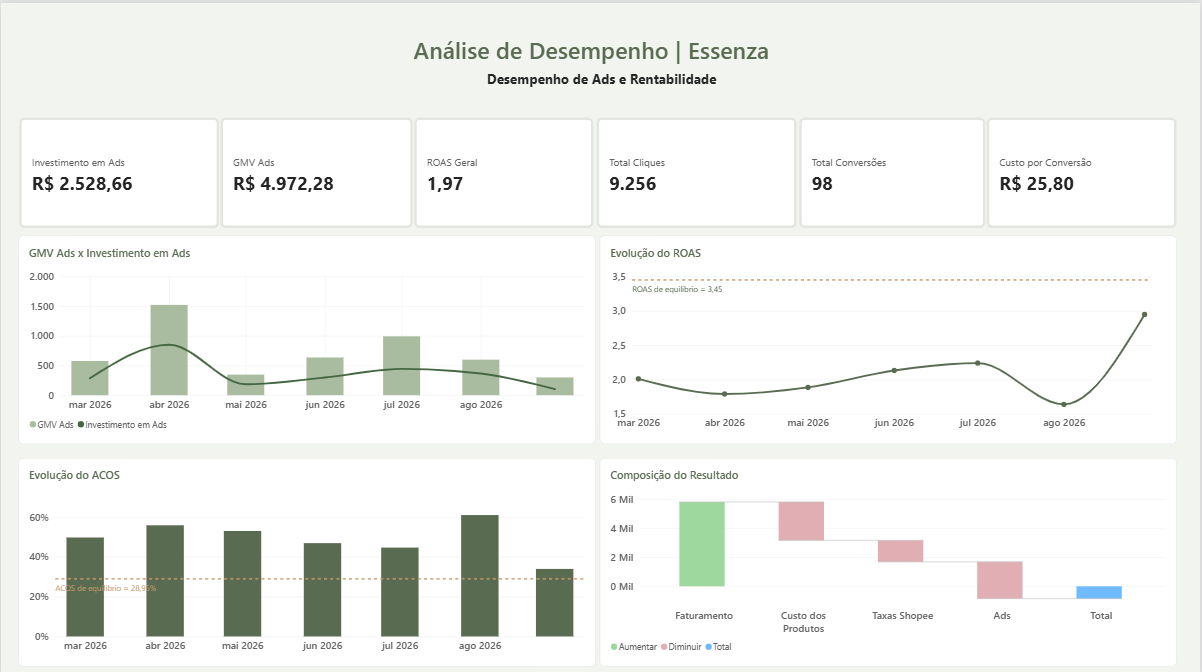

The dashboard page shown, as its layout file describes it:
{"tool":"powerbi","page":{"name":"Ads e Rentabilidade","canvas":[1920,1080],"ordinal":1},"visuals":[{"type":"cardVisual","fields":{"Data":["shopee vendas.Investimento em Ads Exibição"]},"box":[27.1,181.2,322.9,179.2],"z":0},{"type":"cardVisual","fields":{"Data":["shopee anuncios.GMV Ads"]},"box":[350,181.2,310.4,179.2],"z":1000},{"type":"cardVisual","fields":{"Data":["shopee anuncios.ROAS Geral"]},"box":[660.4,181.2,289.6,179.2],"z":2000},{"type":"cardVisual","fields":{"Data":["shopee anuncios.Total Cliques Exibição"]},"box":[952.1,181.2,322.9,179.2],"z":3000},{"type":"cardVisual","fields":{"Data":["shopee anuncios.Total Conversões"]},"box":[1275,181.2,300,179.2],"z":4000},{"type":"cardVisual","fields":{"Data":["shopee anuncios.Custo por Conversão"]},"box":[1575,181.2,306.2,179.2],"z":5000},{"type":"lineClusteredColumnComboChart","title":"GMV Ads x Investimento em Ads","fields":{"Category":["shopee anuncios.Data Inicio Periodo"],"Y":["shopee anuncios.GMV Ads"],"Y2":["shopee vendas.Investimento em Ads"]},"box":[27.1,372.9,922.9,333.3],"z":6000},{"type":"lineChart","title":"Evolução do ROAS ","fields":{"Category":["shopee anuncios.Data Inicio Periodo"],"Y":["shopee anuncios.ROAS Geral"]},"box":[958.3,372.9,922.9,333.3],"z":7000},{"type":"waterfallChart","title":"Composição do Resultado","fields":{"Category":["Etapas Rentabilidade.Etapa"],"Y":["Etapas Rentabilidade.Valor Rentabilidade"]},"box":[958.3,727.1,922.9,333.3],"z":8000},{"type":"columnChart","title":"Evolução do ACOS ","fields":{"Category":["shopee anuncios.Data Inicio Periodo"],"Y":["shopee anuncios.ACOS Geral"]},"box":[27.1,727.1,922.9,333.3],"z":9000},{"type":"textbox","box":[660.4,50,595.8,56.2],"z":10000},{"type":"textbox","box":[754.2,106.2,414.6,37.5],"z":11000}]}

Visuals, with their boxes in screenshot pixels (x1, y1, x2, y2), scaled from the page's 1920x1080 canvas onto the 1202x672 screenshot:
cardVisual - shopee vendas.Investimento em Ads Exibição: bbox=(17, 113, 219, 224)
cardVisual - shopee anuncios.GMV Ads: bbox=(219, 113, 413, 224)
cardVisual - shopee anuncios.ROAS Geral: bbox=(413, 113, 595, 224)
cardVisual - shopee anuncios.Total Cliques Exibição: bbox=(596, 113, 798, 224)
cardVisual - shopee anuncios.Total Conversões: bbox=(798, 113, 986, 224)
cardVisual - shopee anuncios.Custo por Conversão: bbox=(986, 113, 1178, 224)
"GMV Ads x Investimento em Ads" lineClusteredColumnComboChart: bbox=(17, 232, 595, 439)
"Evolução do ROAS " lineChart: bbox=(600, 232, 1178, 439)
"Composição do Resultado" waterfallChart: bbox=(600, 452, 1178, 660)
"Evolução do ACOS " columnChart: bbox=(17, 452, 595, 660)
textbox: bbox=(413, 31, 786, 66)
textbox: bbox=(472, 66, 732, 89)
